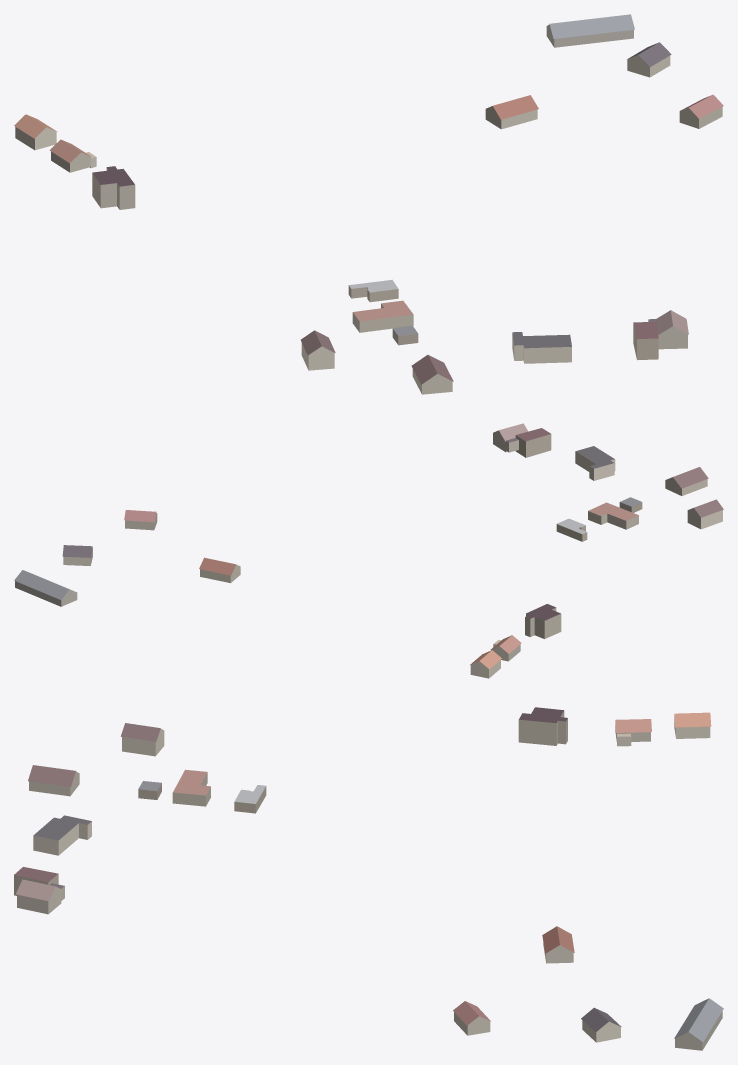
3 renders of one model, top to bottom at view 1: azimuth 30°, elevation 25°; view 2: azimuth 150°, elevation 25°; view 3: azimuth 270°, elevation 25°, orthographic. The views are drawn at different scales.
Parts seen in each view (by area): view 1: tuile; view 2: tuile; view 3: tuile.
Part boxes in pixels (x1=…): tuile: x1=14, y1=14, x2=723, y2=394; tuile: x1=14, y1=423, x2=723, y2=678; tuile: x1=14, y1=707, x2=723, y2=1050.
Bounding box in the file's own units: 242 × 20.75 × 248.
